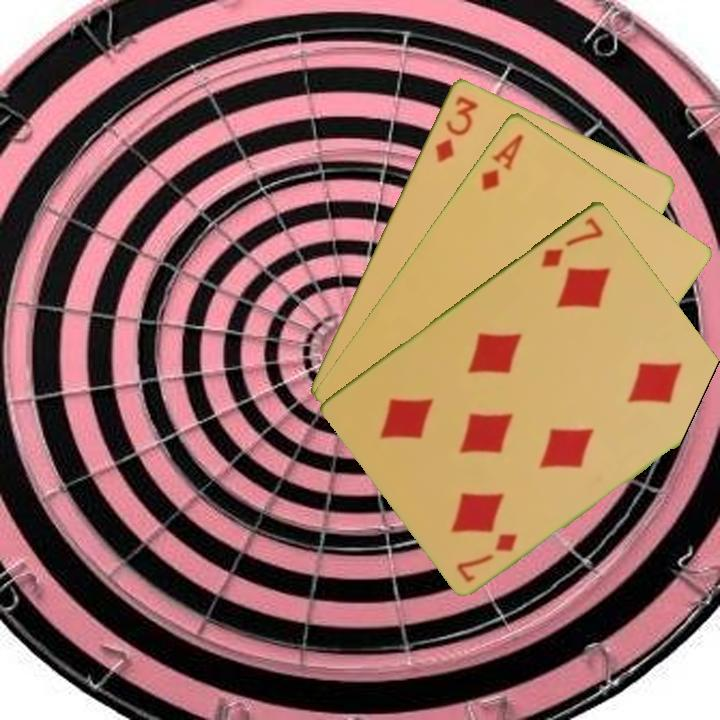3d: (431, 92, 482, 166)
7d: (537, 213, 607, 270), (453, 529, 521, 585)
Ad: (477, 130, 527, 194)
